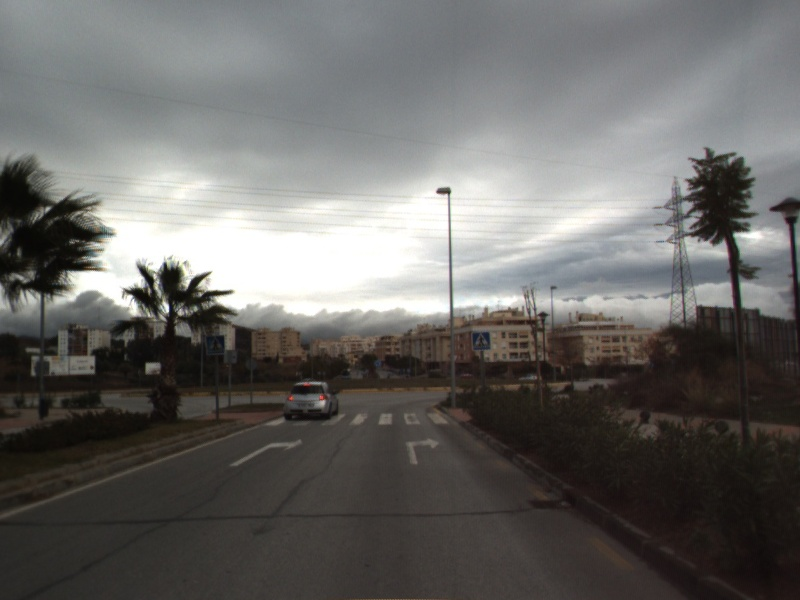RIGHT: (227, 437, 304, 468), (404, 436, 442, 466)
